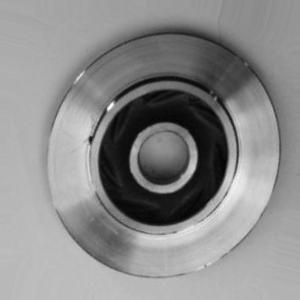defect: (68, 112, 103, 175)
